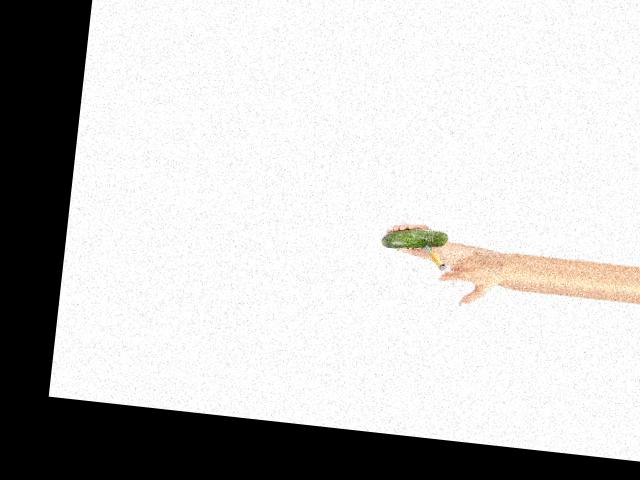cucumber: (379, 225, 448, 253)
